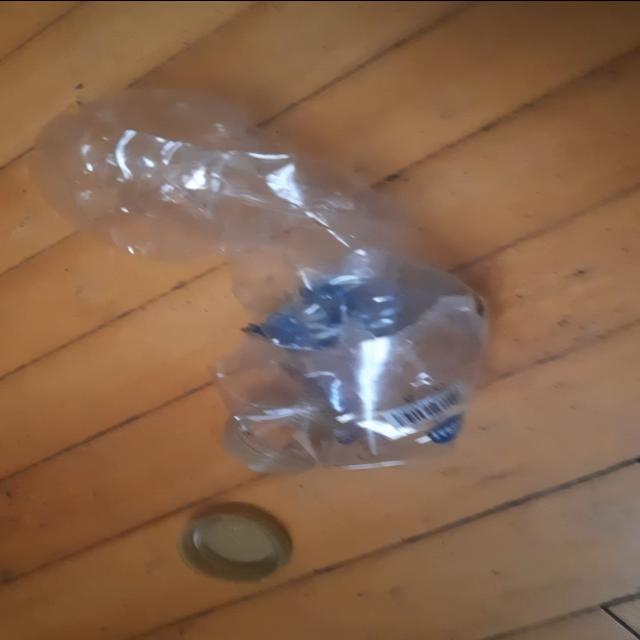Plastic: (27, 87, 489, 473)
